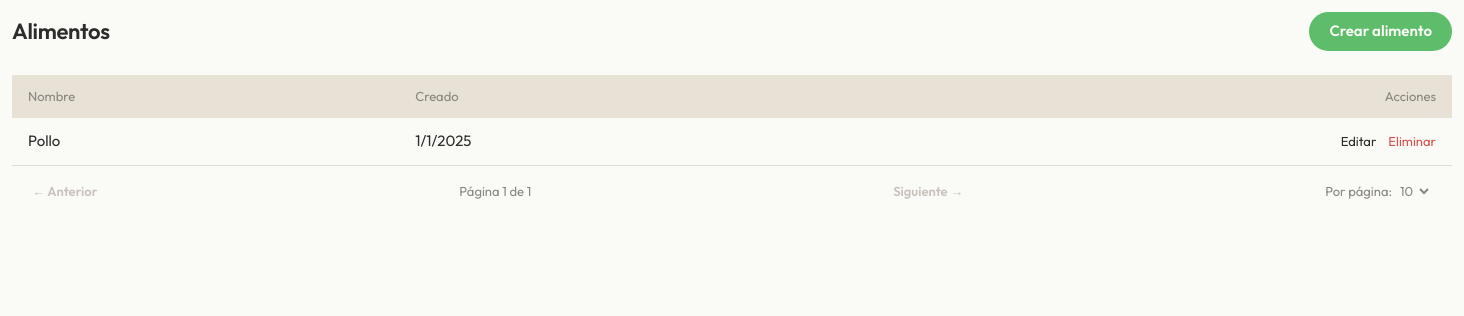
AdminFoodsPage › shows ConfirmDialog when "Eliminar" button is clicked
Expected: the text "Pollo" is shown, [12,118,399,165]
Click the button "Eliminar".
click(1412, 141)  # box [1388,132,1436,151]
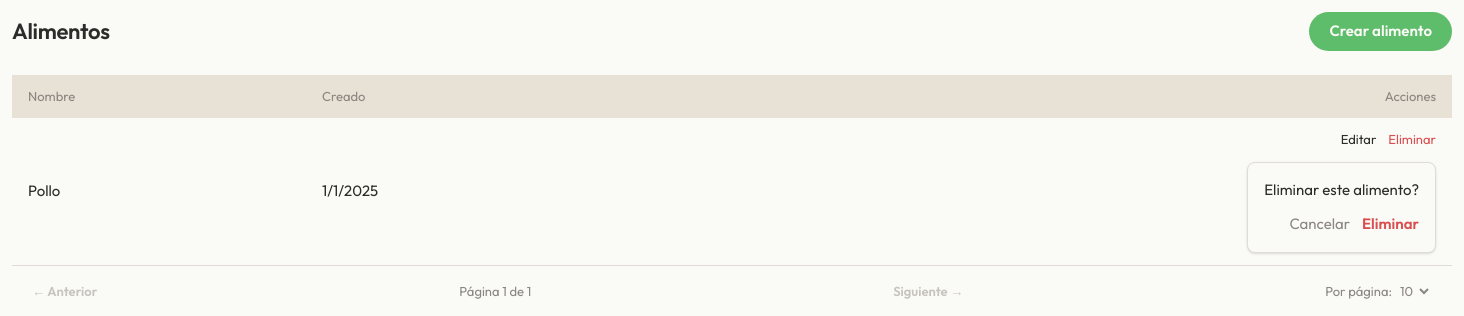
Expected: the text "Eliminar este alimento?" is shown, [1264,178,1419,201]
